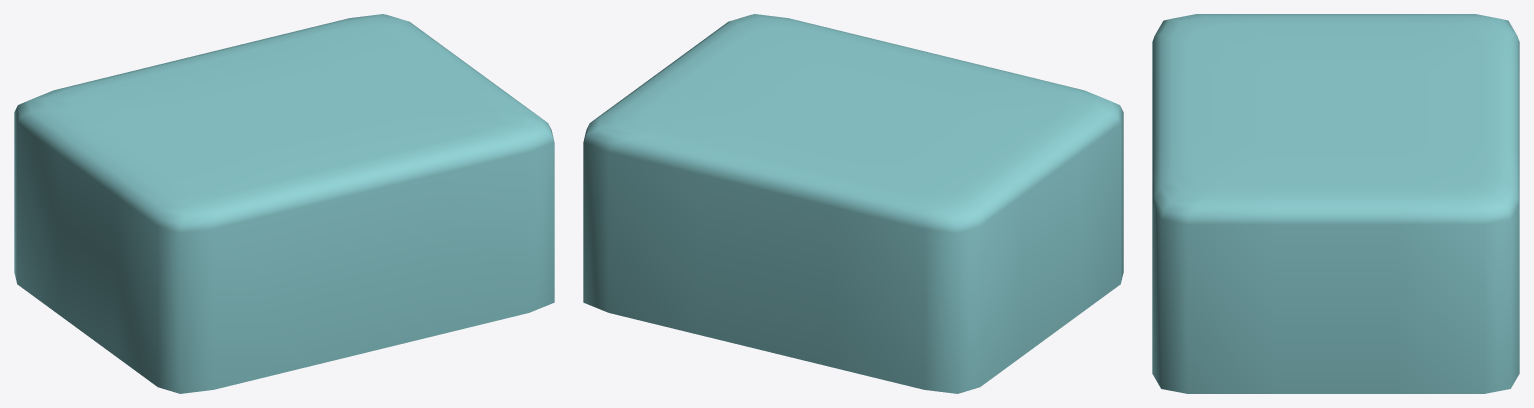
The model's file is mur_neige_03.fbx.
3 renders of one model, left to right at view 1: azimuth 30°, elevation 25°; view 2: azimuth 150°, elevation 25°; view 3: azimuth 270°, elevation 25°, orthographic. The views are drawn at different scales.
Parts seen in each view (by area): view 1: Box008; view 2: Box008; view 3: Box008.
Boxes of the visible parts, x1,y1,x2,y2 form: Box008: [14, 14, 554, 393]; Box008: [583, 14, 1123, 393]; Box008: [1152, 14, 1519, 393].
Size of the model in its own units: 733 by 315 by 561.
